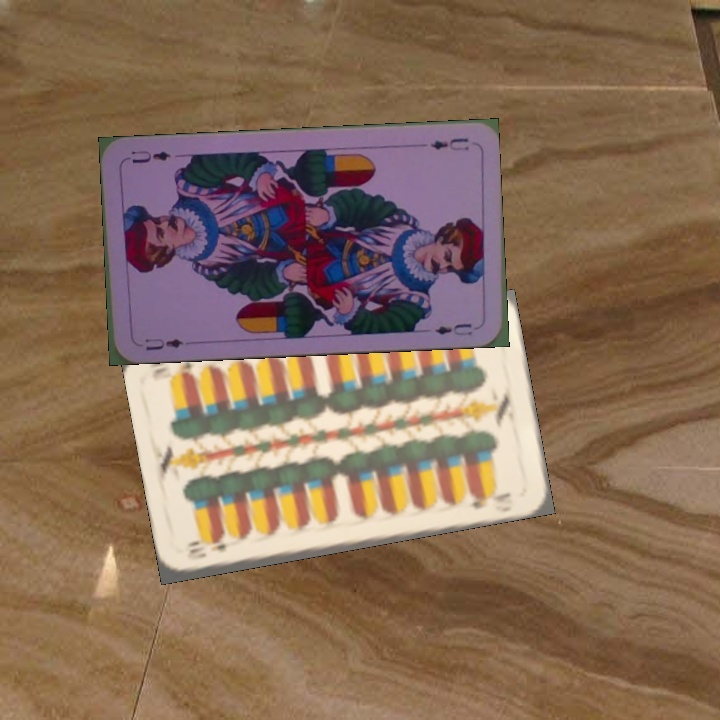E10: (183, 538, 230, 563)
EU: (141, 334, 186, 353), (426, 134, 471, 153)
